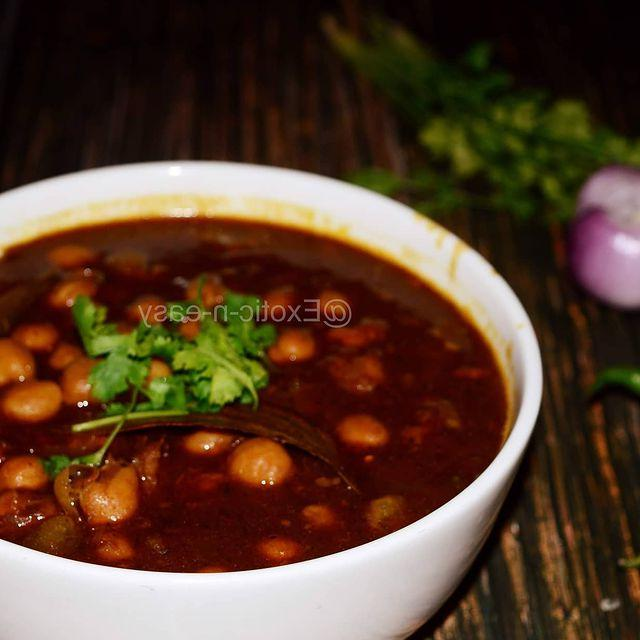Chole: (0, 332, 414, 576)
